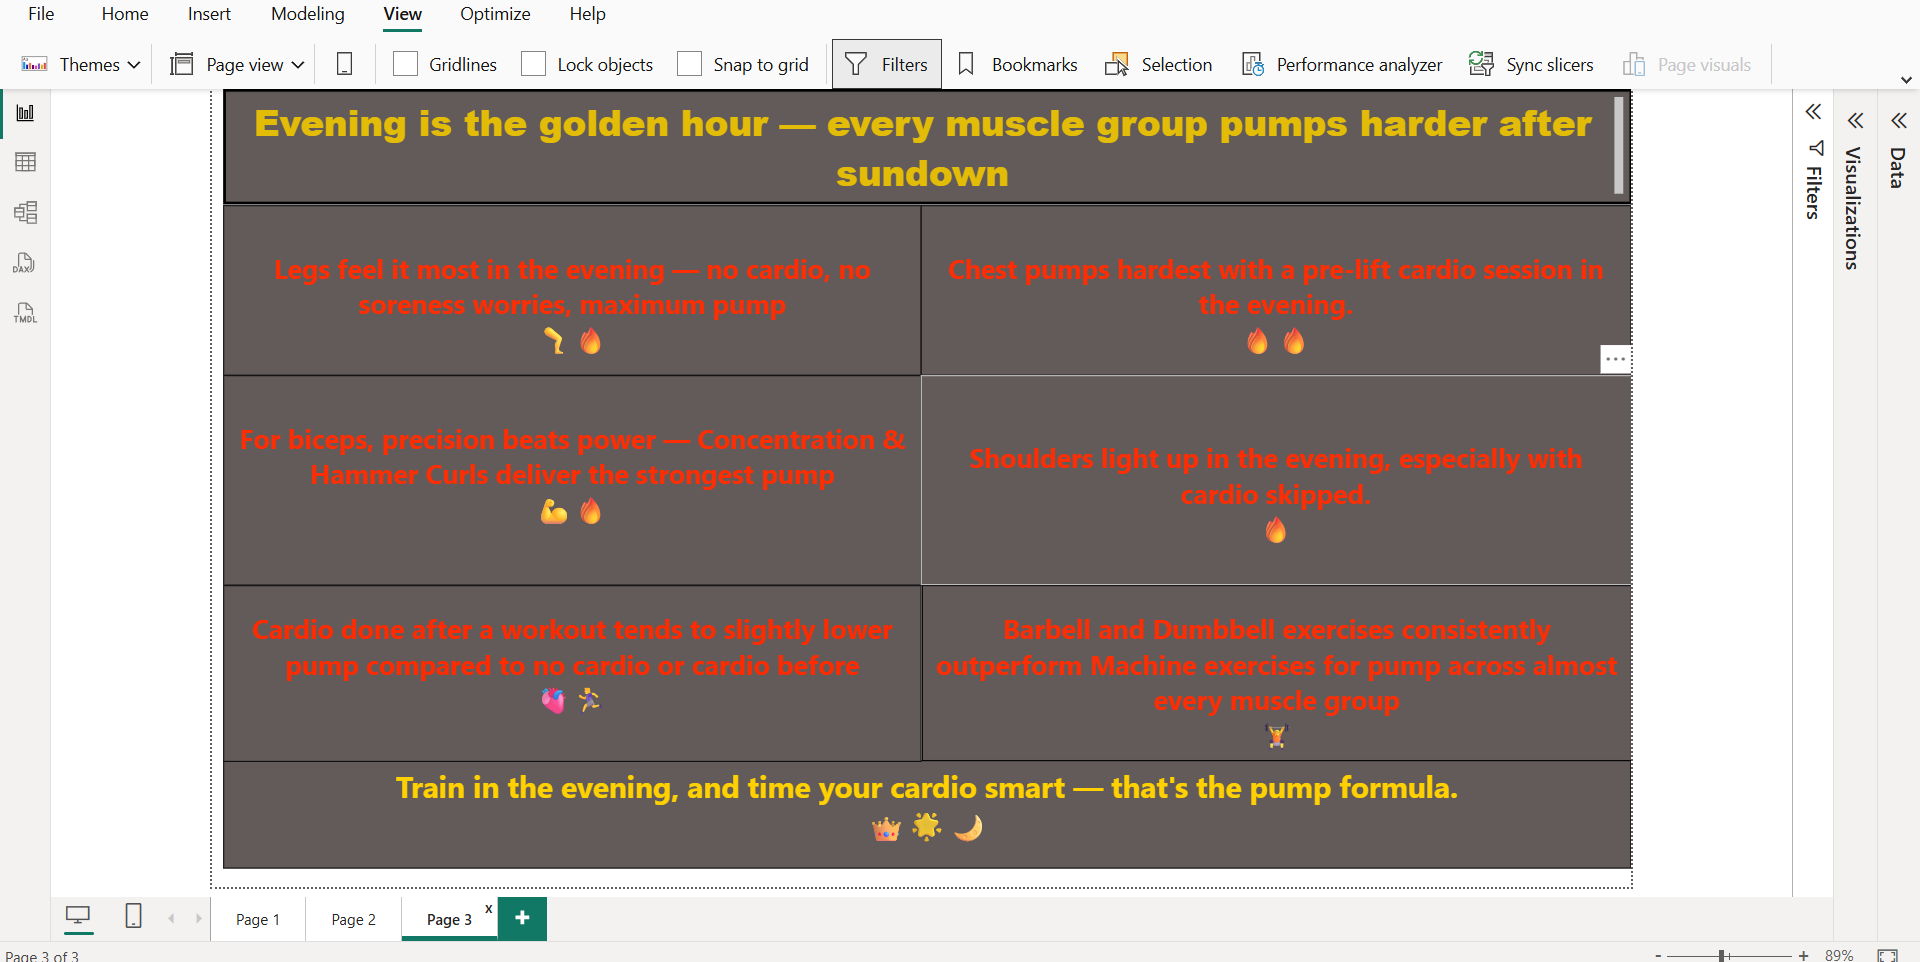

This screenshot's page, from the dashboard's own definition file:
{"tool":"powerbi","page":{"name":"Page 3","canvas":[1280,720],"ordinal":2},"visuals":[{"type":"textbox","box":[9.6,0,1270.7,104.3],"z":0},{"type":"textbox","box":[9.6,104.3,629.8,153.7],"z":1000},{"type":"textbox","box":[639.5,104.3,640.8,153.7],"z":2000},{"type":"textbox","box":[9.6,258,629.8,189.4],"z":3000},{"type":"textbox","box":[639.5,258,640.8,189.4],"z":4000},{"type":"textbox","box":[9.6,605.1,1269.3,97.4],"z":5000},{"type":"textbox","box":[9.6,447.3,629.8,159.2],"z":6000},{"type":"textbox","box":[640,447,640,158],"z":7000}]}

Visuals, with their boxes on the page's 1280x720 design canvas (x1, y1, x2, y2). These are canvas units, not pixel positions in the 1920x962 screenshot, which may show the page scaled, cropped or inside an application window:
textbox: region(10, 0, 1280, 104)
textbox: region(10, 104, 639, 258)
textbox: region(640, 104, 1280, 258)
textbox: region(10, 258, 639, 447)
textbox: region(640, 258, 1280, 447)
textbox: region(10, 605, 1279, 702)
textbox: region(10, 447, 639, 606)
textbox: region(640, 447, 1280, 605)
